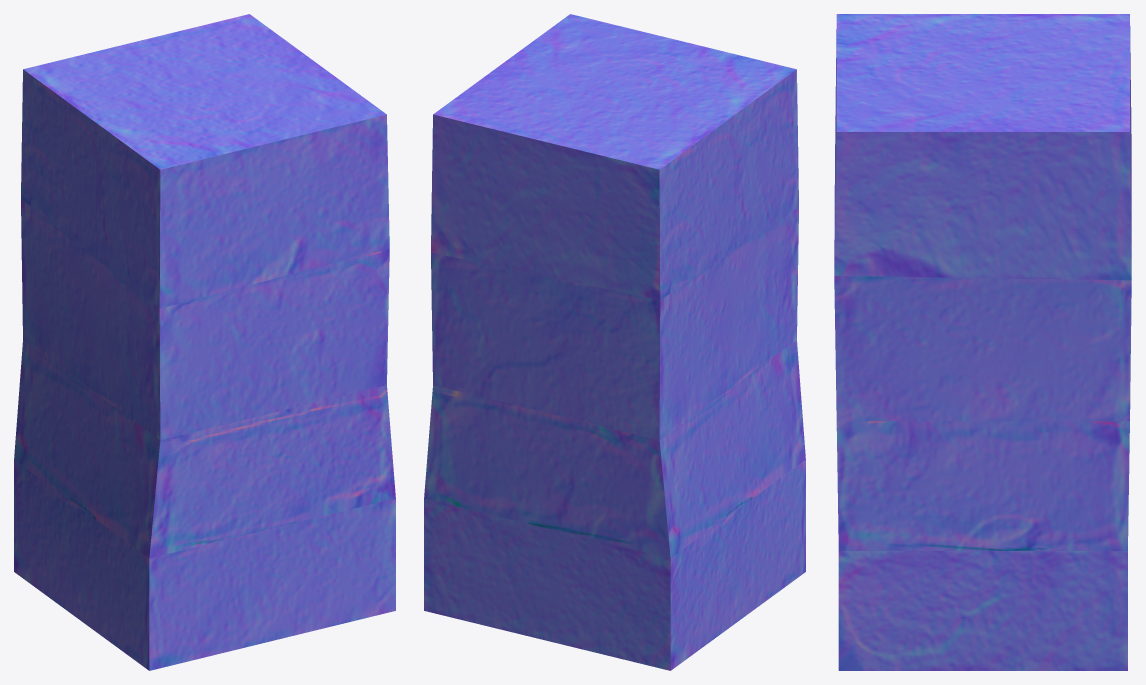
Rendered from pillar_middle_02a_LOD2.fbx.
3 renders of one model, left to right at view 1: azimuth 30°, elevation 25°; view 2: azimuth 150°, elevation 25°; view 3: azimuth 270°, elevation 25°, orthographic. The views are drawn at different scales.
Visible parts, largest first — view 1: pillar_middle_02a_LOD2; view 2: pillar_middle_02a_LOD2; view 3: pillar_middle_02a_LOD2.
Part boxes in pixels (x1,y1,x2,y2): pillar_middle_02a_LOD2: [14, 14, 395, 670]; pillar_middle_02a_LOD2: [424, 14, 805, 670]; pillar_middle_02a_LOD2: [834, 14, 1131, 670].
Bounding box in the file's own units: 32.14 × 31.43 × 62.22.
Materials: 1 (1 with a texture image).
